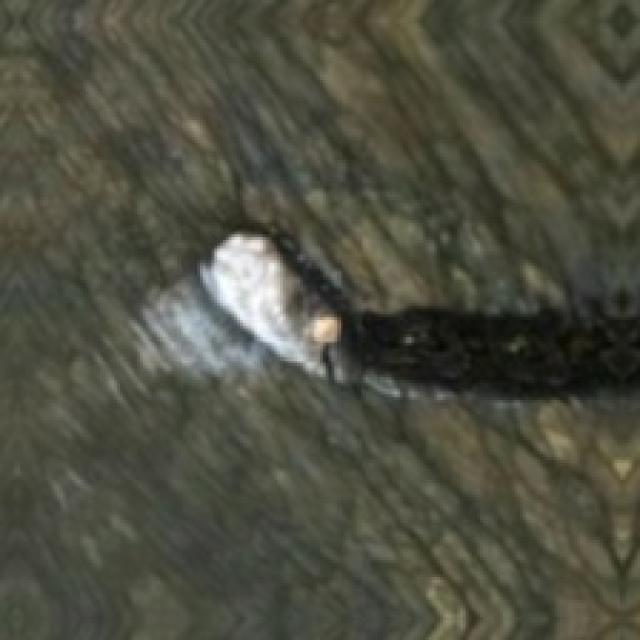reticulated python: (200, 231, 637, 391)
